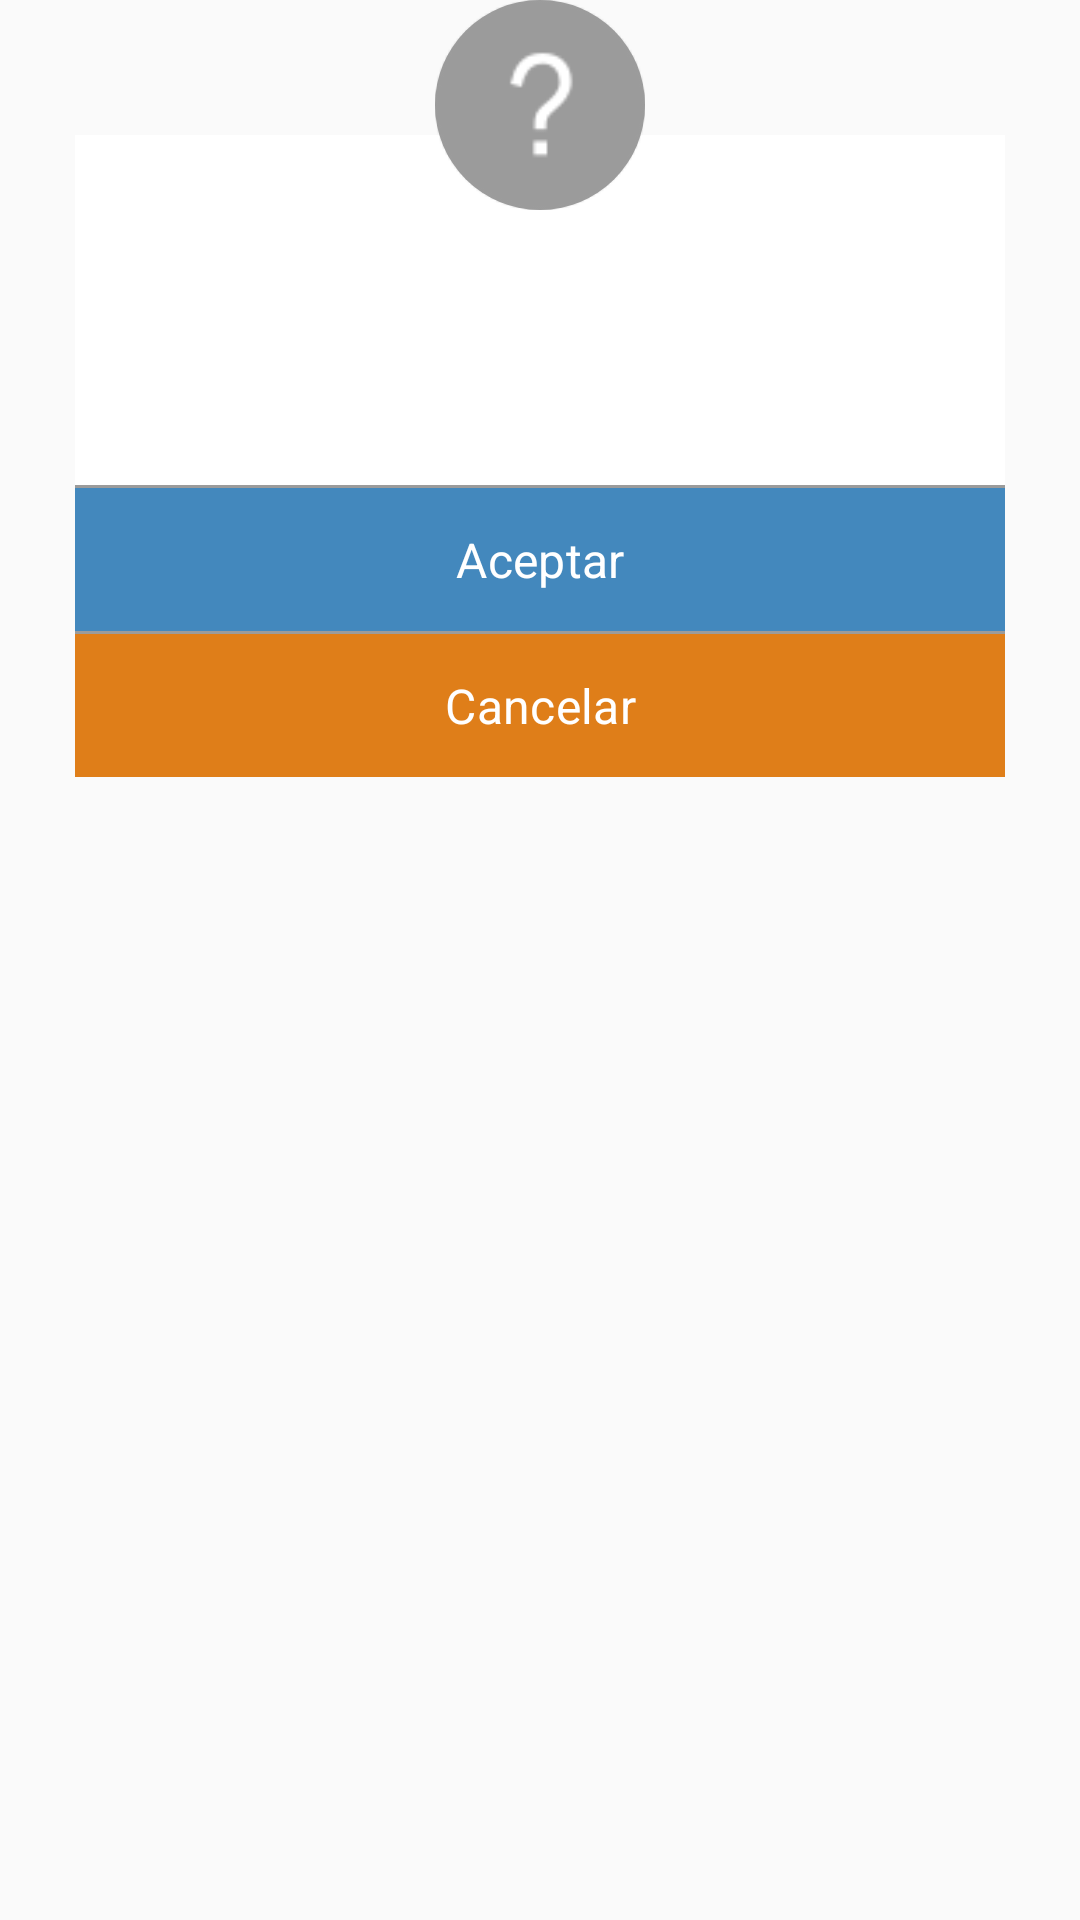

Screen size 1080 × 1920. Icon name, then its box in pixels as (x1, y1, x2, y2):
question: (435, 0, 645, 210)
